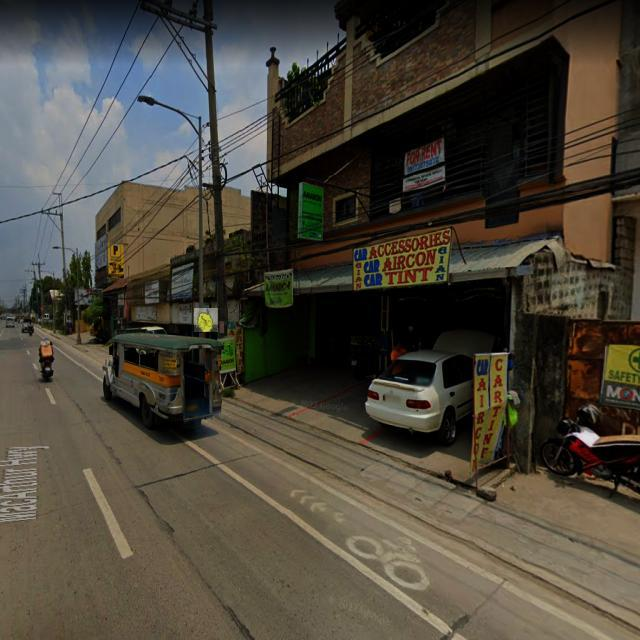bike lane: (194, 308, 218, 332)
